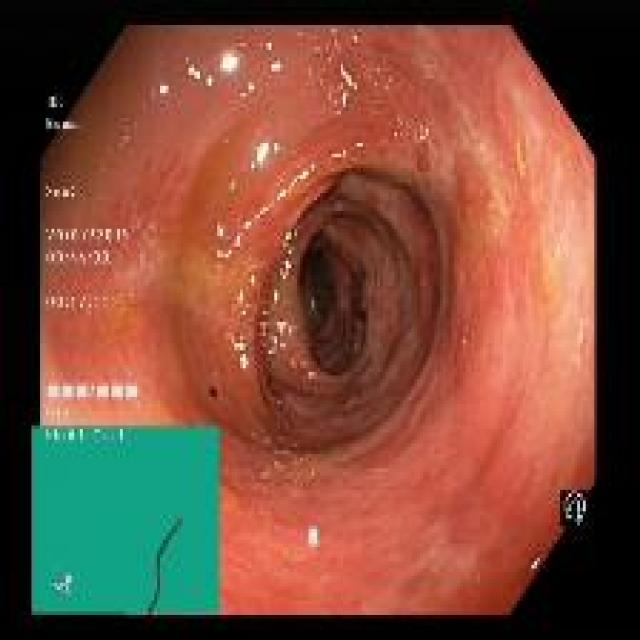ulcerative-colitis: (42, 27, 595, 615)
